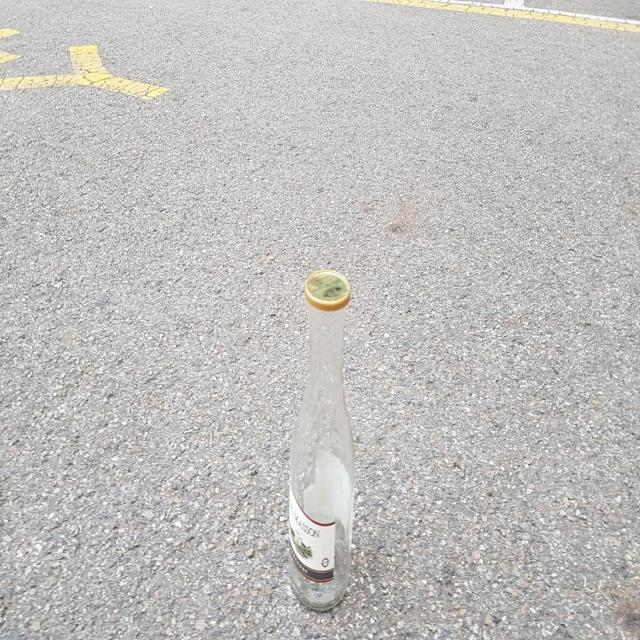glass: (288, 269, 355, 611)
